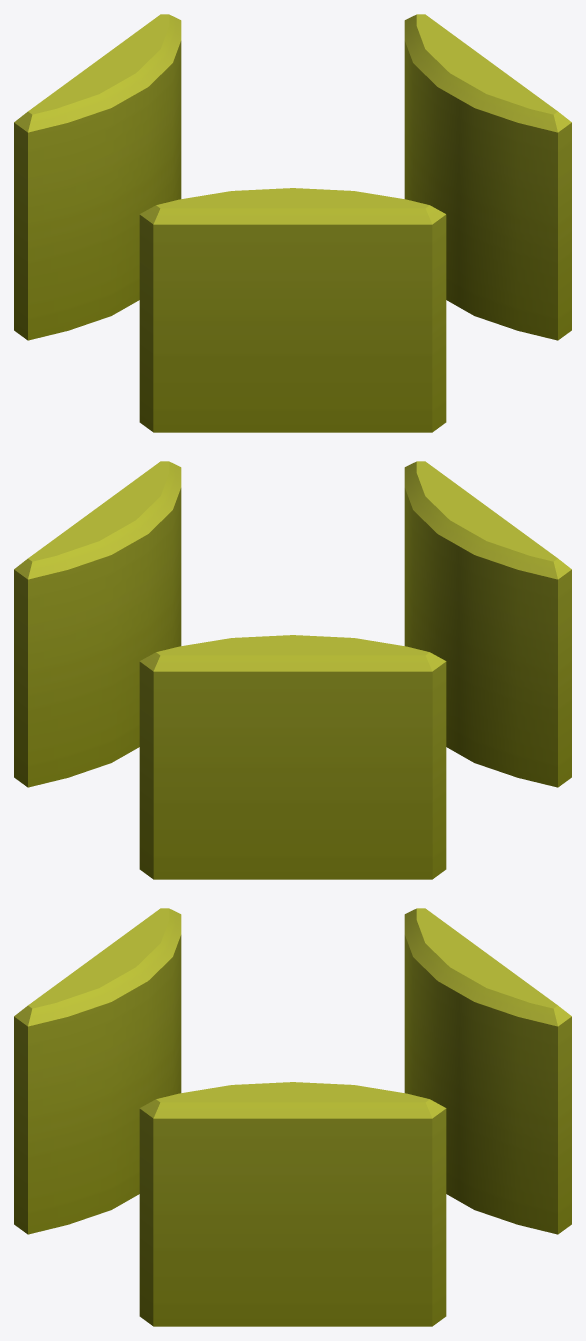
Rendered from kaykit-medieval-hexagon-pack-hex-river-d-waterless.glb.
The picture shows the model from 3 angles, top to bottom: view 1: azimuth 30°, elevation 25°; view 2: azimuth 150°, elevation 25°; view 3: azimuth 270°, elevation 25°; orthographic projection.
Visible parts, largest first — view 1: hex_river_D_waterless; view 2: hex_river_D_waterless; view 3: hex_river_D_waterless.
Part boxes in pixels (x1=…): hex_river_D_waterless: x1=14, y1=14, x2=571, y2=432; hex_river_D_waterless: x1=14, y1=461, x2=571, y2=879; hex_river_D_waterless: x1=14, y1=908, x2=571, y2=1326.
Bounding box in the file's own units: 2 × 1 × 2.31.
1 material, 1 textured.
